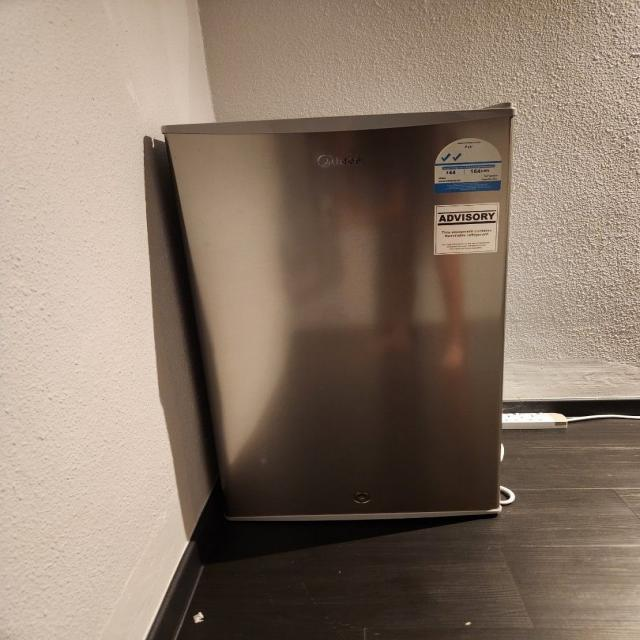refrigerator: (163, 103, 520, 523)
